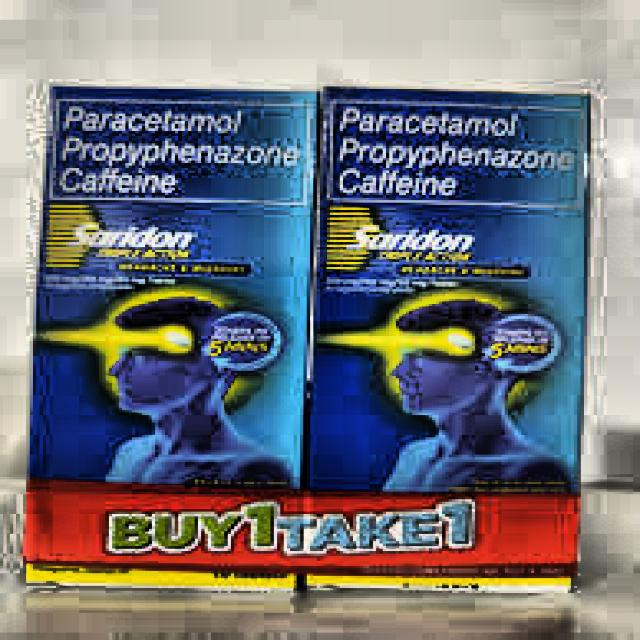Saridon: (330, 97, 570, 526), (61, 93, 302, 515)
